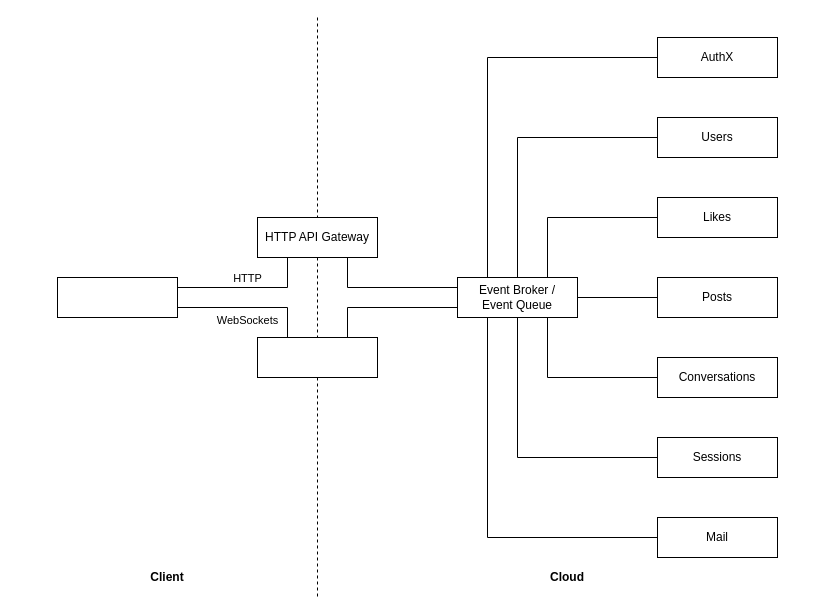
Some shapes in this 834 by 616 pixel diagram are drawn without their labels. Here are the shapes that lost their labels. From the top down, the box of each, then its label:
(56, 276, 178, 318): Web interface
(256, 336, 378, 378): WS API Gateway
